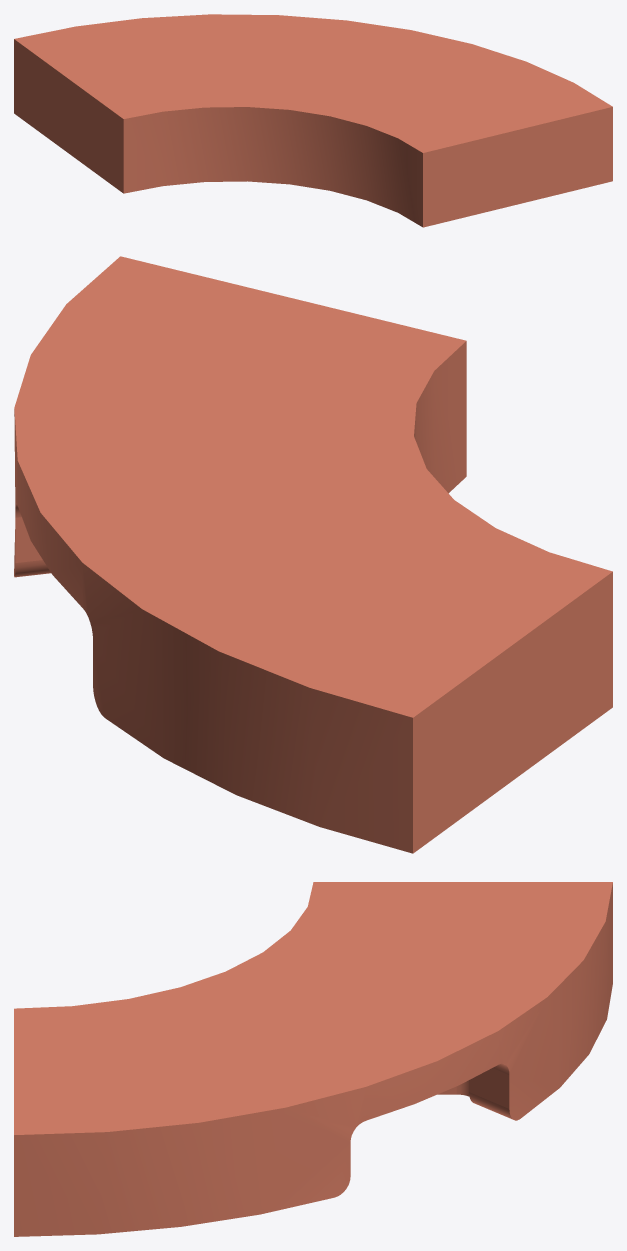
3 views of the same model, one above another, from view 1: azimuth 30°, elevation 25°; view 2: azimuth 150°, elevation 25°; view 3: azimuth 270°, elevation 25° (orthographic). The views are drawn at different scales.
Parts seen in each view (by area): view 1: [pivoted]; view 2: [pivoted]; view 3: [pivoted].
Boxes of the visible parts, x1,y1,x2,y2 form: [pivoted]: [14, 14, 612, 227]; [pivoted]: [14, 256, 612, 853]; [pivoted]: [14, 882, 612, 1236].
Size of the model in its own units: 1.6 by 0.3 by 1.6.
